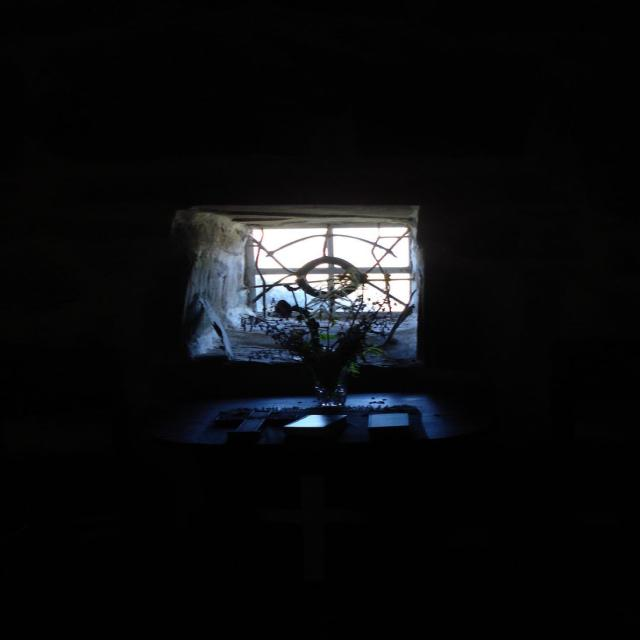Table: (163, 360, 478, 517)
